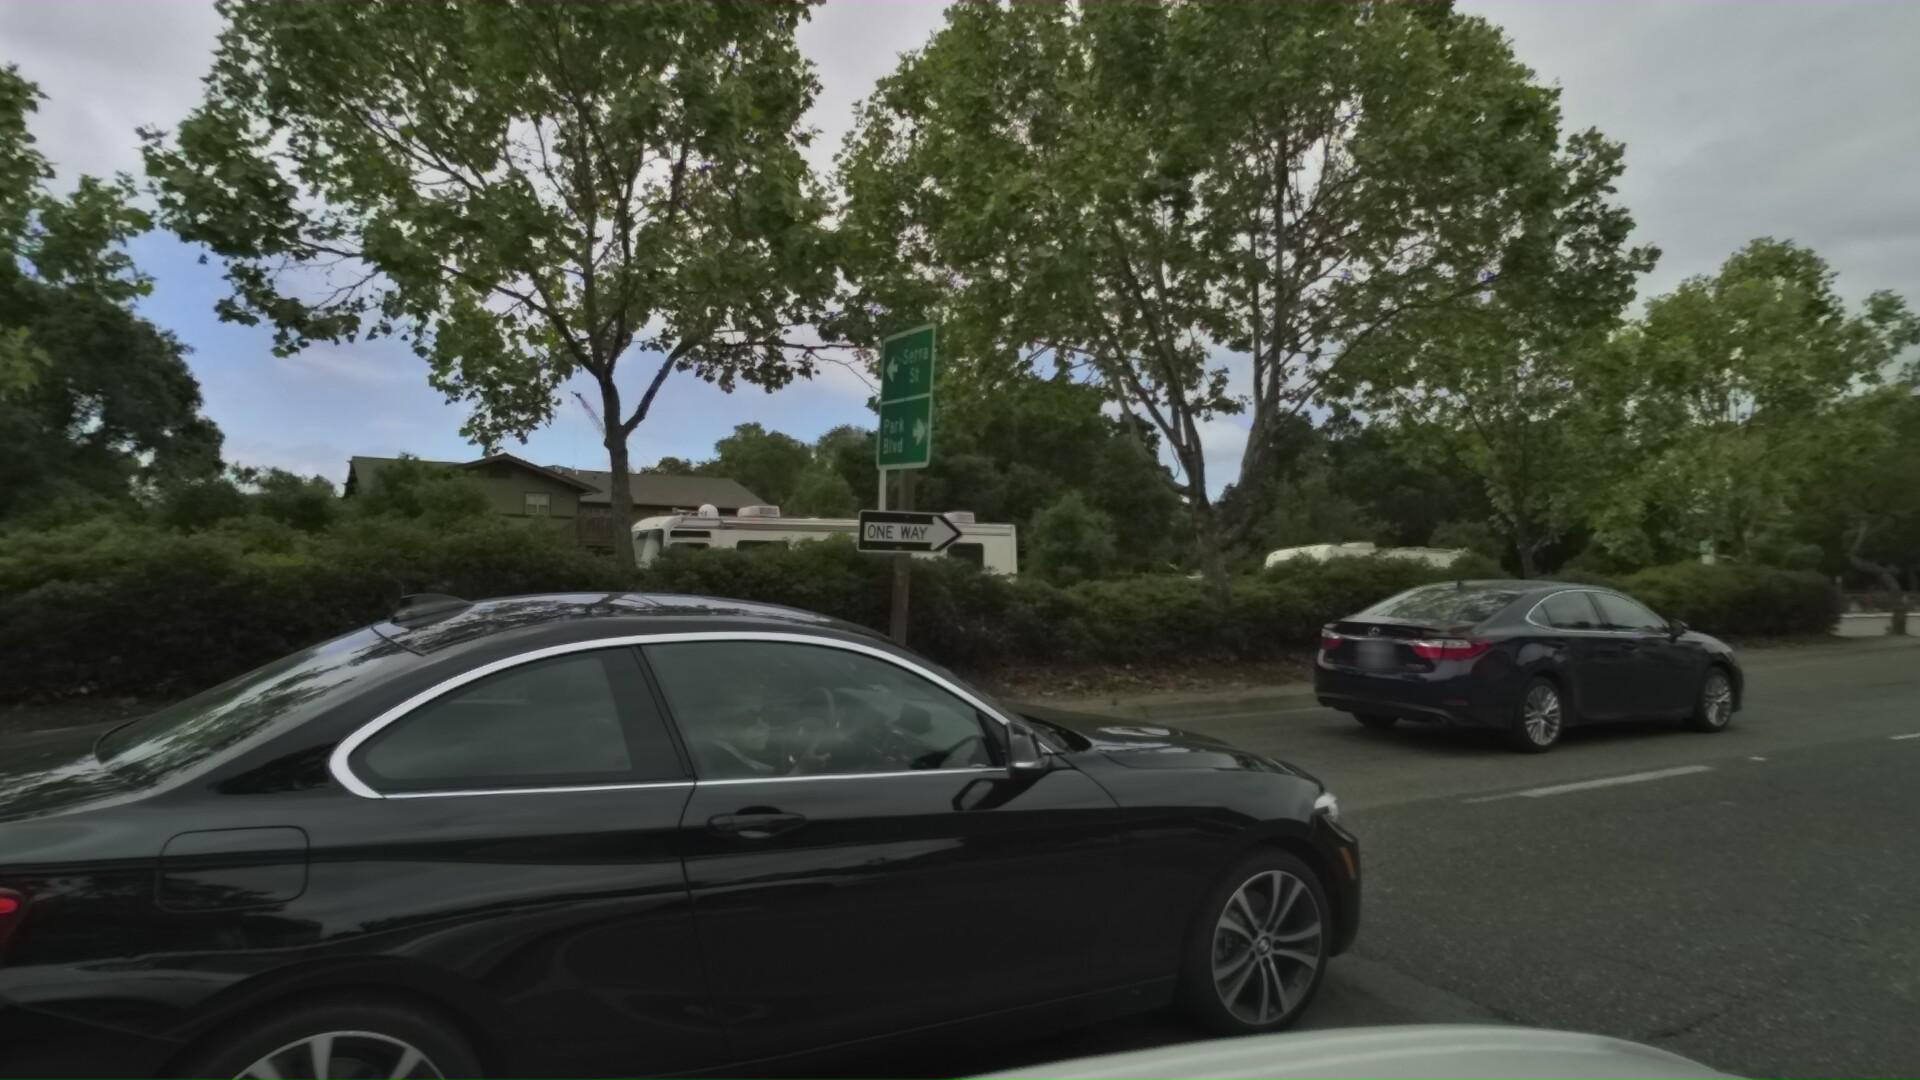car: (1294, 531, 1780, 777), (1065, 559, 1242, 636)
other_vehicle: (560, 465, 1021, 662), (1218, 524, 1477, 630)
